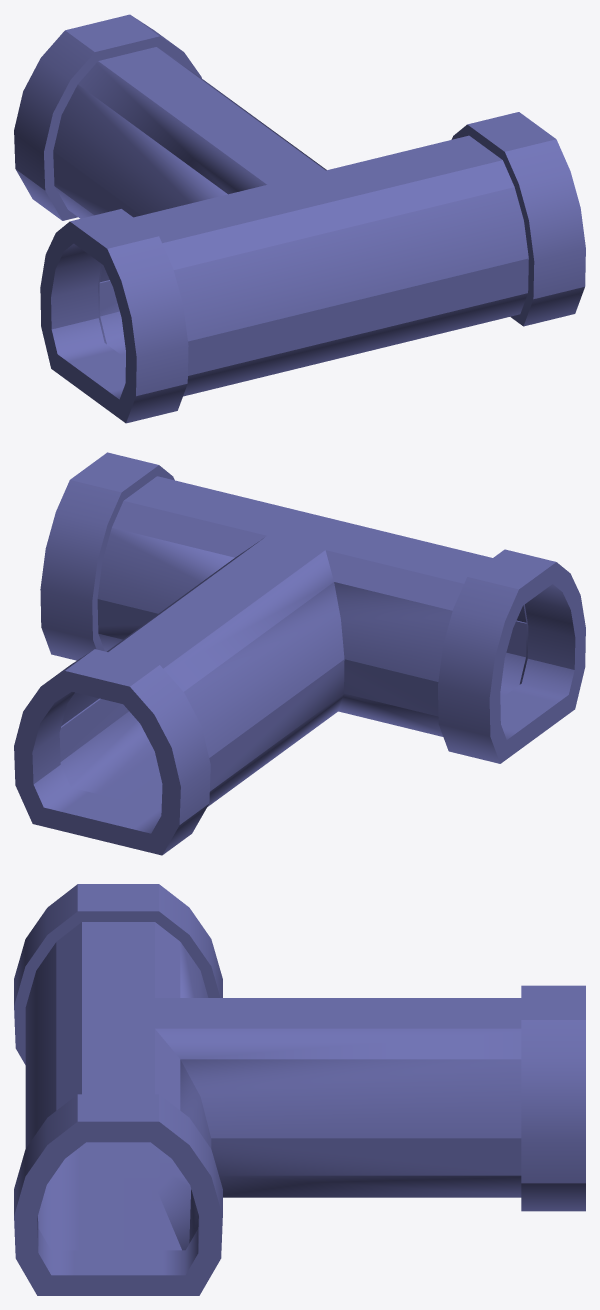
Rendered from tunnel_connect.fbx.
3 renders of one model, top to bottom at view 1: azimuth 30°, elevation 25°; view 2: azimuth 150°, elevation 25°; view 3: azimuth 270°, elevation 25°, orthographic. The views are drawn at different scales.
Parts seen in each view (by area): view 1: tunnel_connect.001, tunnel_connect.003, tunnel_connect.002, tunnel_connect; view 2: tunnel_connect.001, tunnel_connect.002, tunnel_connect.003, tunnel_connect; view 3: tunnel_connect.001, tunnel_connect.003, tunnel_connect.002, tunnel_connect.
Part boxes in pixels (left/top/right/bottom): tunnel_connect.001: left=53, top=47, right=528, bottom=396; tunnel_connect.003: left=53, top=84, right=528, bottom=341; tunnel_connect.002: left=40, top=112, right=585, bottom=423; tunnel_connect: left=14, top=14, right=201, bottom=220; tunnel_connect.001: left=59, top=476, right=526, bottom=809; tunnel_connect.002: left=40, top=452, right=585, bottom=763; tunnel_connect.003: left=61, top=527, right=526, bottom=757; tunnel_connect: left=14, top=649, right=210, bottom=855; tunnel_connect.001: left=38, top=922, right=521, bottom=1250; tunnel_connect.003: left=25, top=942, right=521, bottom=1148; tunnel_connect.002: left=14, top=884, right=222, bottom=1295; tunnel_connect: left=521, top=985, right=585, bottom=1211.
Size of the model in its own units: 301 by 307 by 103.
